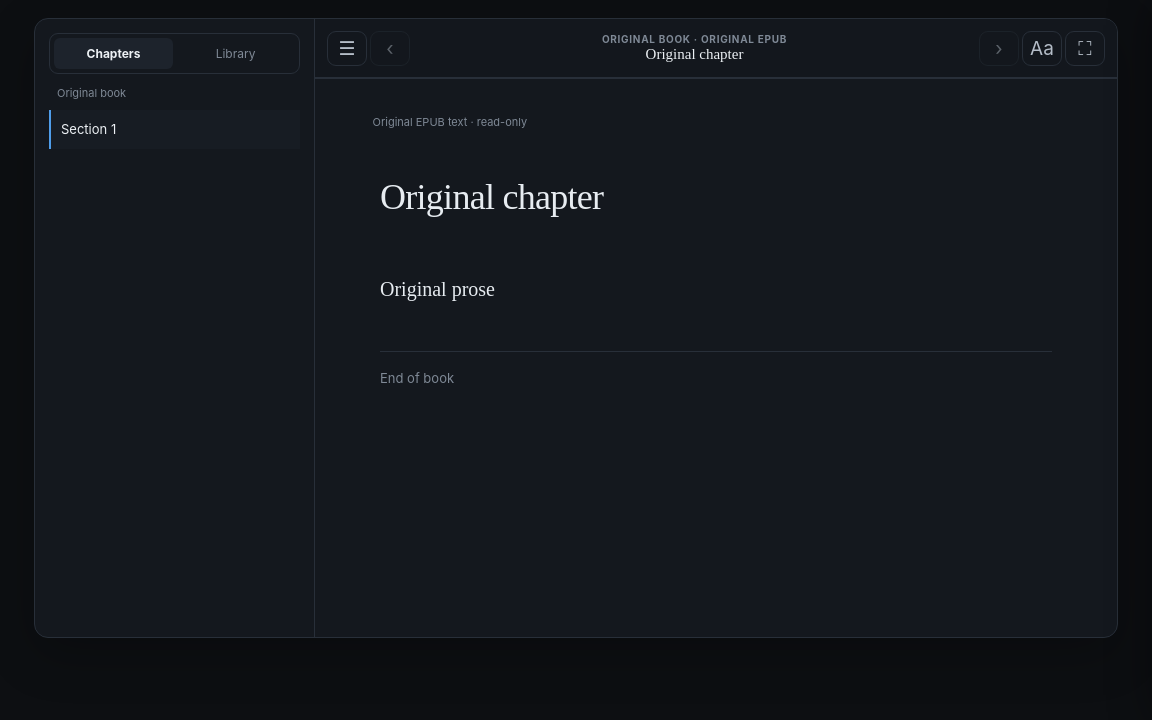
offers an original Library EPUB in Reader without a workspace
Expected: the text "Original prose" is shown, [380, 278, 495, 300]
Expected: the button "Section 1" is shown, [49, 110, 300, 149]
Click the button "Library": x=236, y=54 [176, 38, 295, 69]
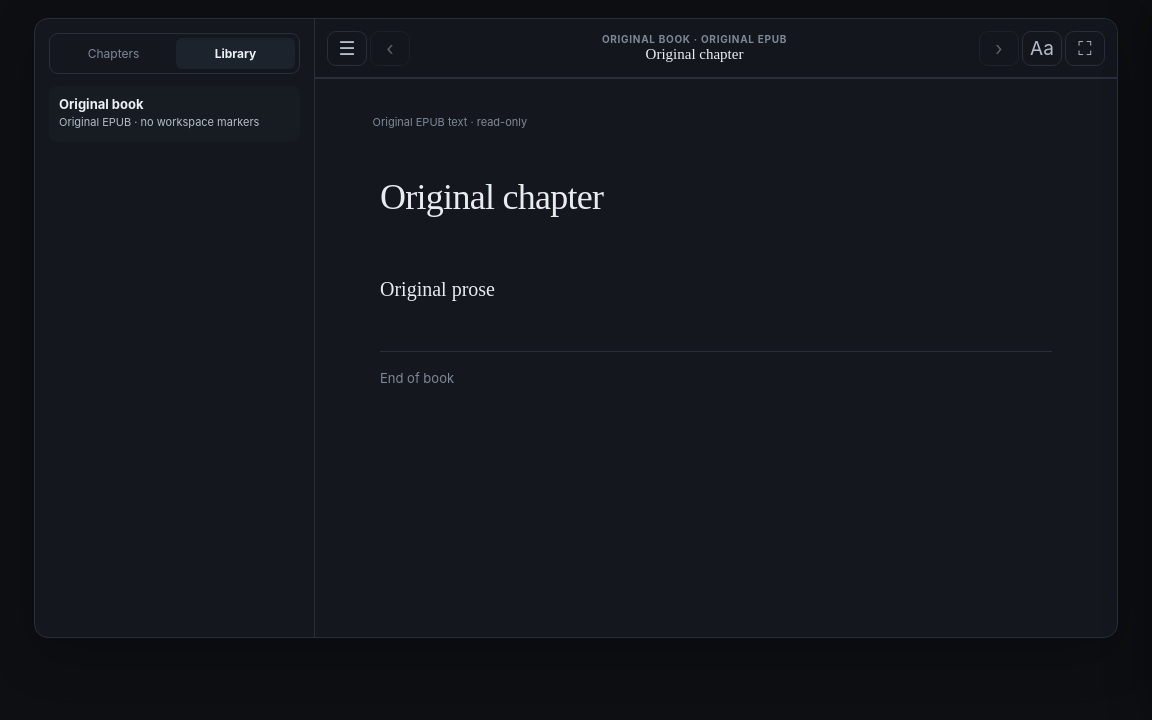
Expected: the text "Original EPUB text · read-only" is shown, [373, 115, 527, 129]
Result: the text "Original EPUB · no workspace markers" is shown at [59, 115, 290, 129]
